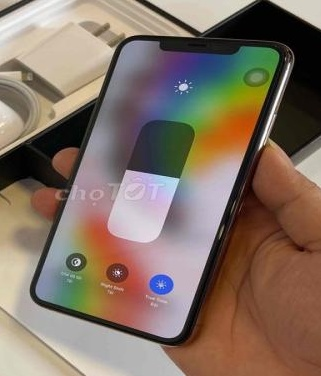scratch: (267, 41, 298, 62)
